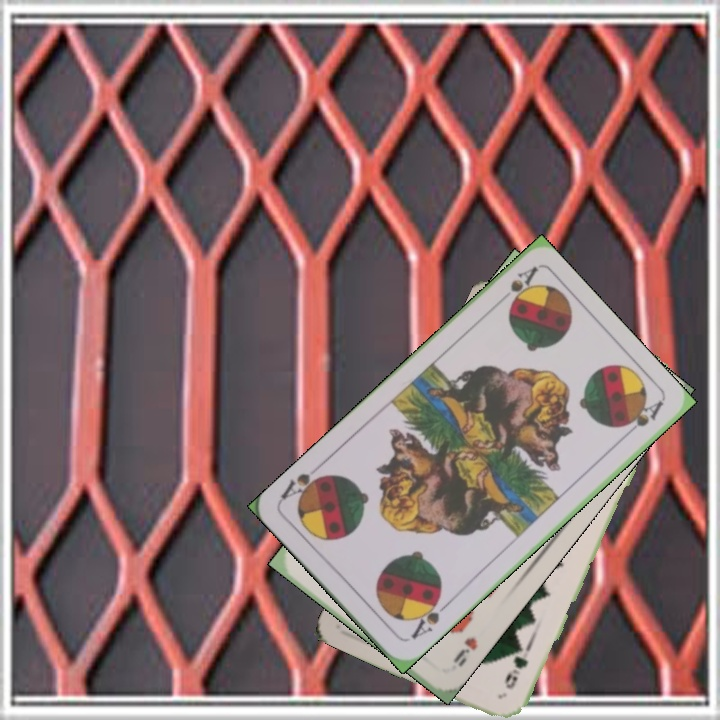G9: (500, 652, 531, 692)
H9: (449, 633, 481, 670)
SA: (407, 591, 452, 642), (490, 263, 539, 309)
